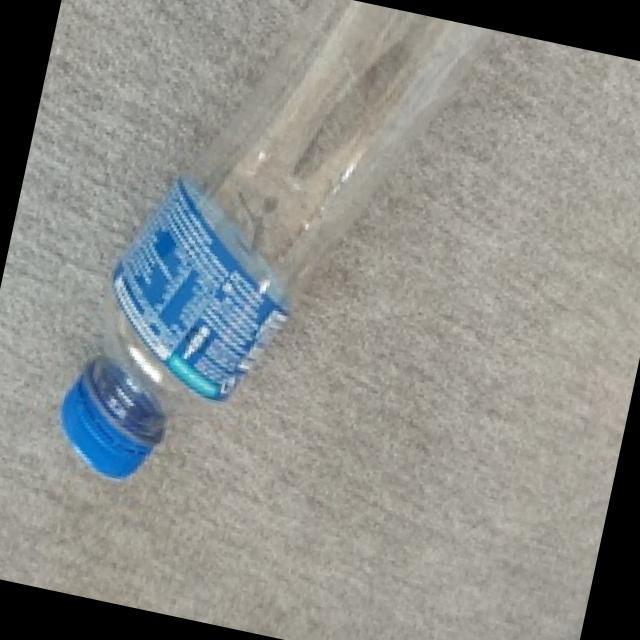good: (37, 0, 489, 538)
